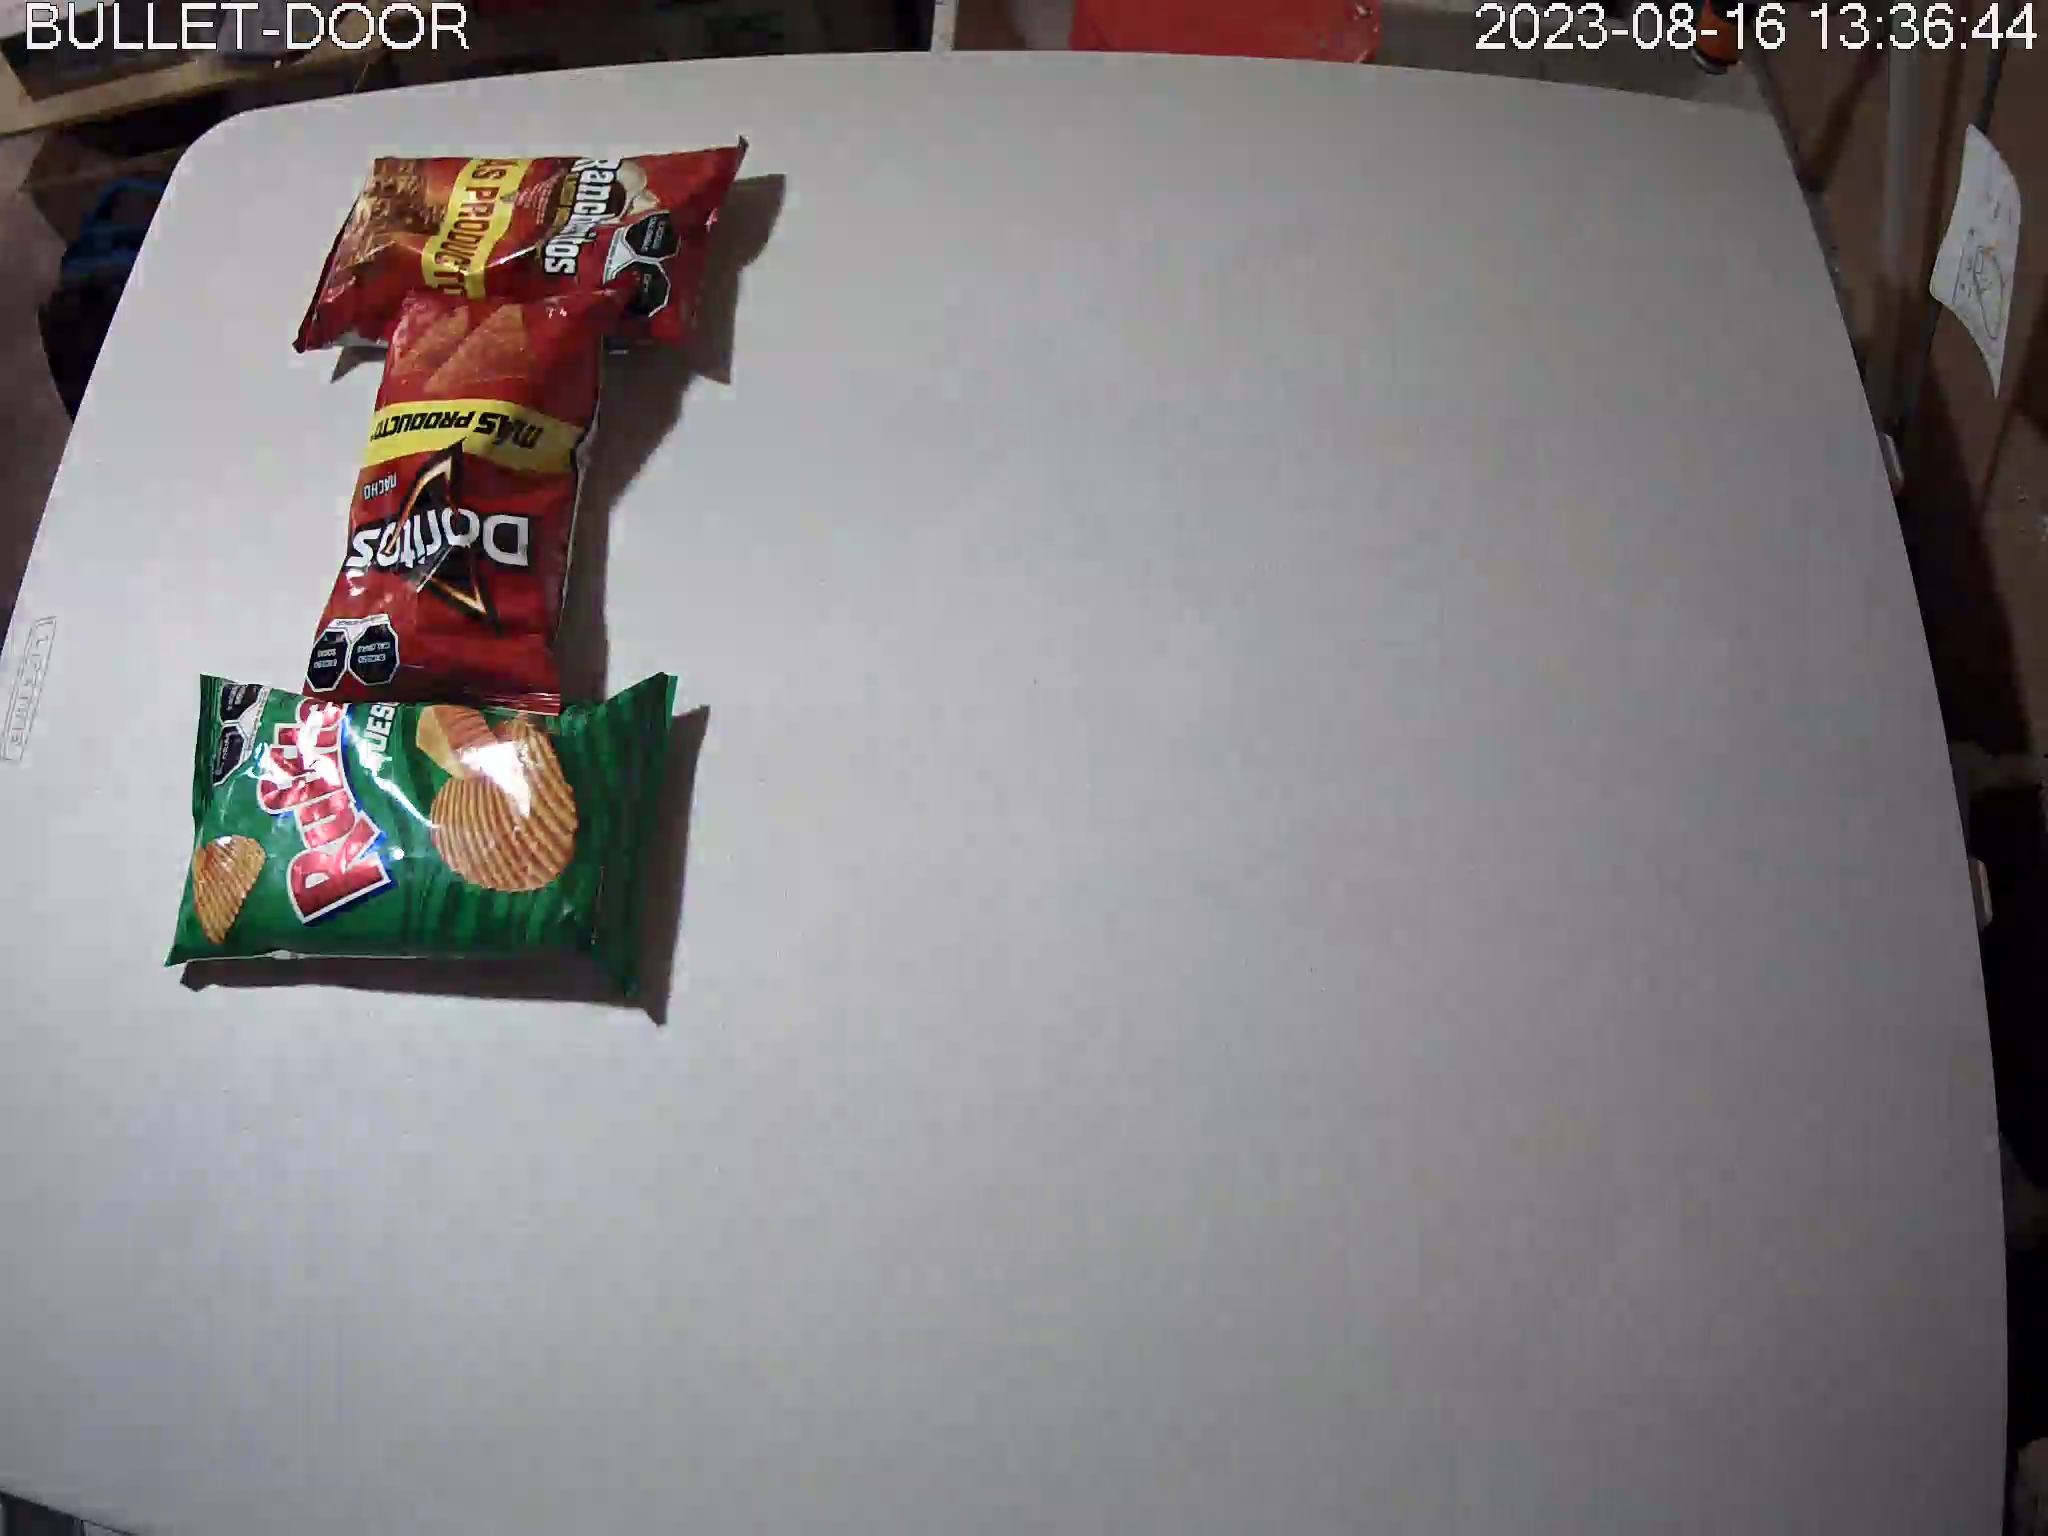DoritosN_61_F: (302, 273, 639, 718)
Rancheritos_58_F: (293, 132, 751, 361)
RufflesQ_48_F: (164, 671, 677, 1008)
